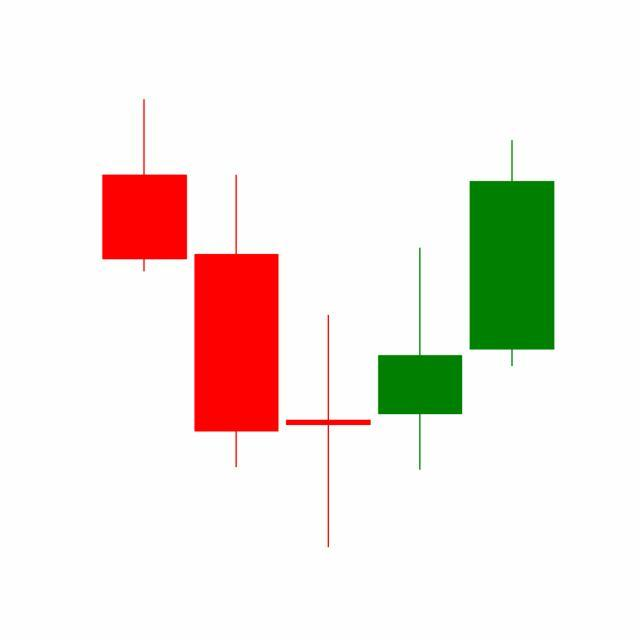Unique 3 River: (190, 170, 467, 548)
